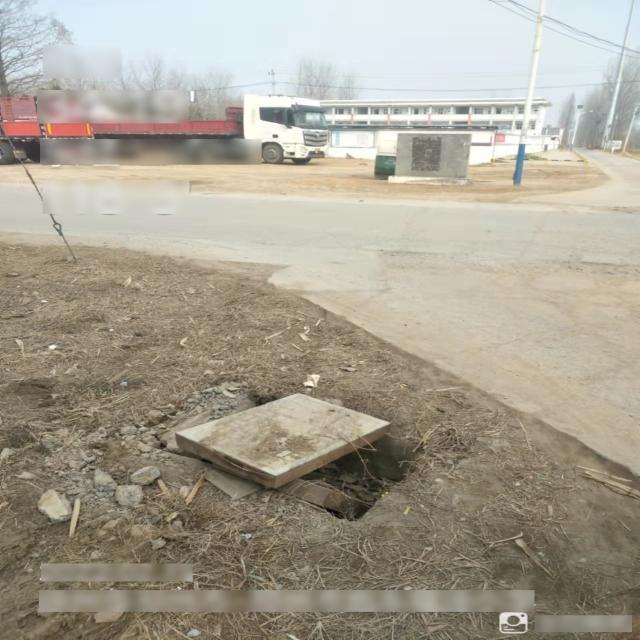Faulty: (140, 378, 439, 533)
